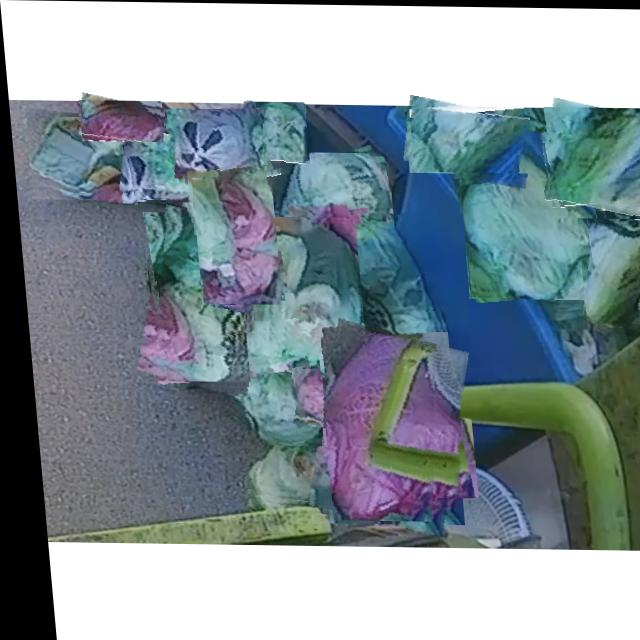general_trashbag: (457, 138, 595, 297), (243, 217, 356, 373), (328, 216, 436, 349), (155, 217, 237, 381), (217, 333, 313, 449), (546, 115, 640, 216), (26, 117, 134, 194), (408, 105, 526, 171), (579, 200, 640, 322), (281, 152, 388, 218), (156, 303, 238, 385), (123, 126, 203, 201), (236, 446, 327, 500), (243, 101, 303, 163), (254, 217, 277, 233)
other_trashbag: (316, 333, 427, 520), (195, 176, 274, 303), (175, 109, 257, 179), (408, 418, 469, 497), (79, 105, 158, 142), (288, 374, 332, 426)
